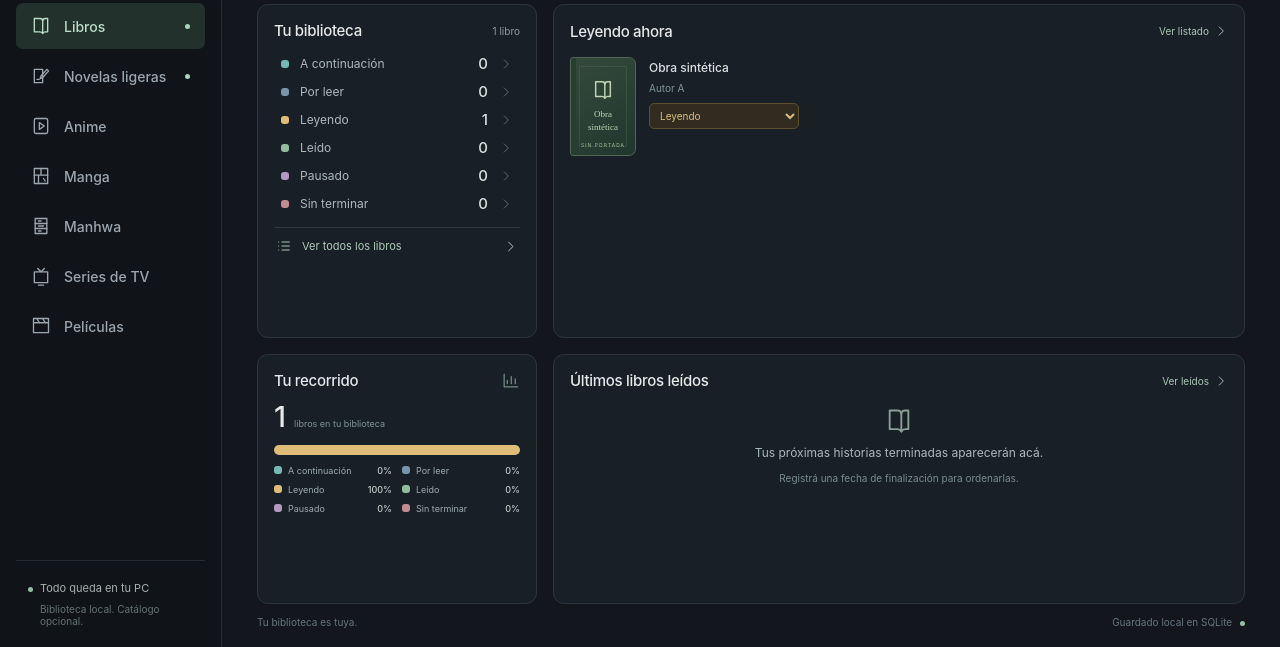
Test: Catálogo de Libros › conserva snapshot y borrador de notas ante un fallo de refresco y tras refrescar
The width and height of the screenshot is (1280, 647).
Click the button with aria-label "Abrir Obra sintética". click: (603, 106)
box: [570,57,636,156]
(page scrolled)
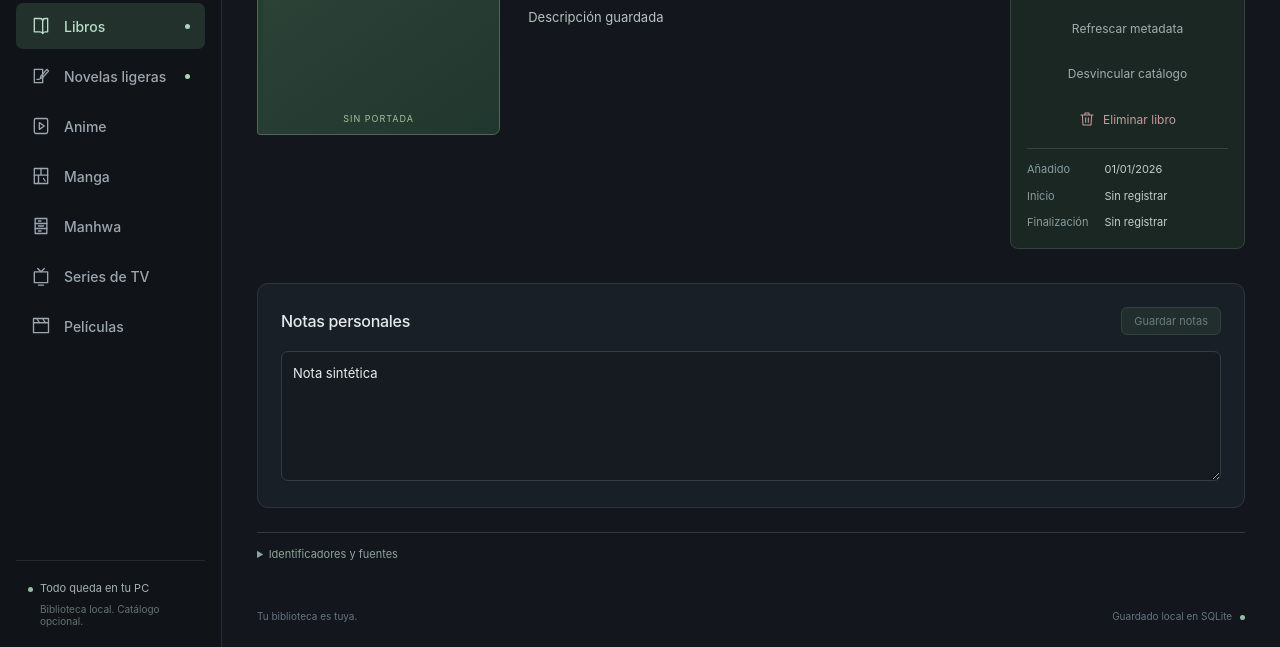
Replace the text in the text box named "Notas personales del libro" with "Borrador sin guardar". click: (751, 416)
box: [281,351,1221,481]
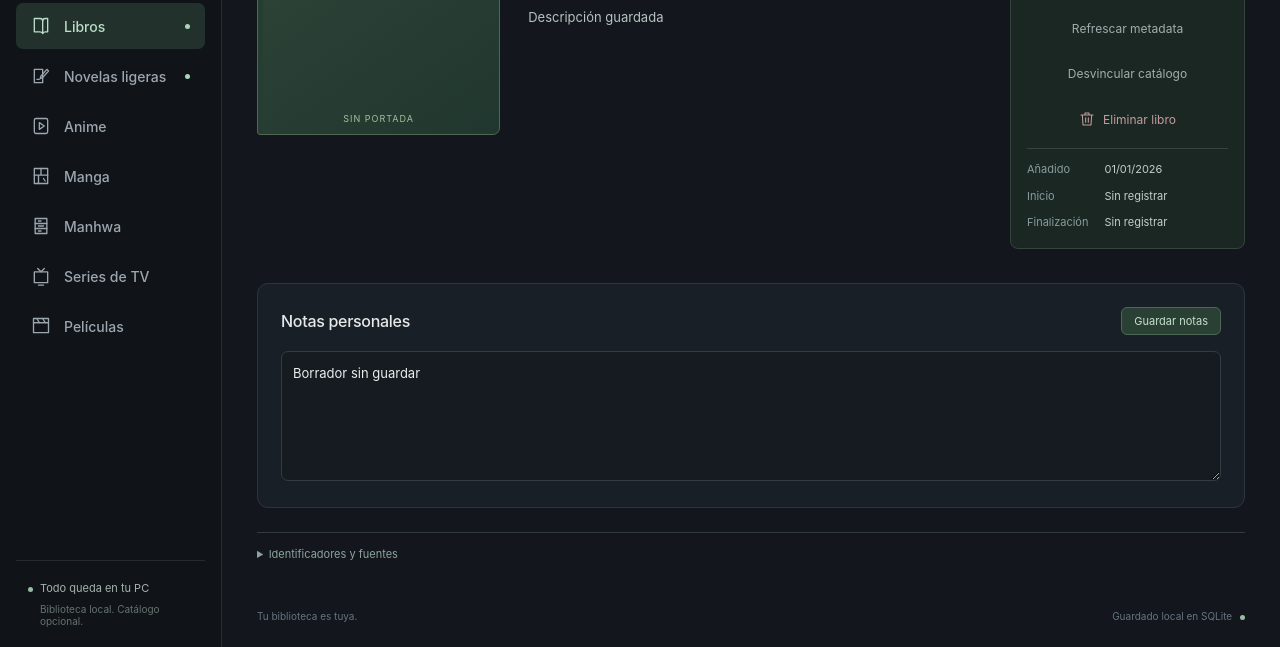
Click the button "Refrescar metadata". click: (1128, 28)
box: [1027,12,1228,45]
(page scrolled)
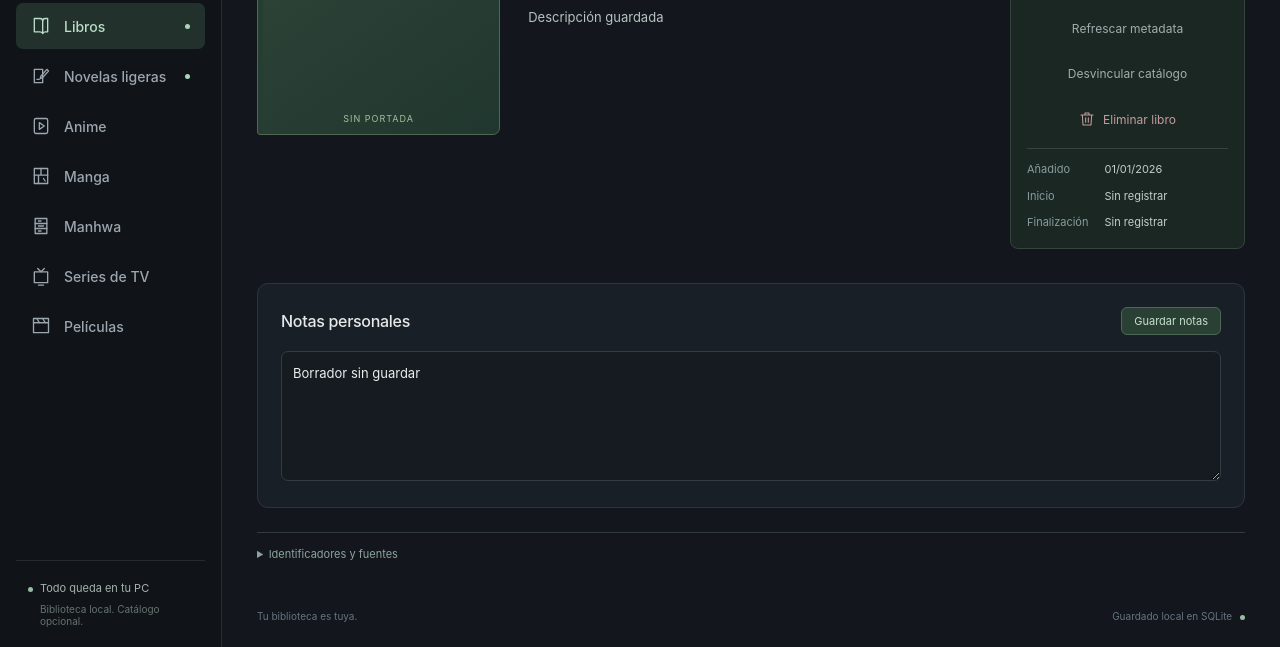
Check: the text "Descripción guardada" is shown, box [528,9,664,25]
Click the button "Refrescar metadata". click: (1128, 29)
box: [1027,12,1228,45]
(page scrolled)
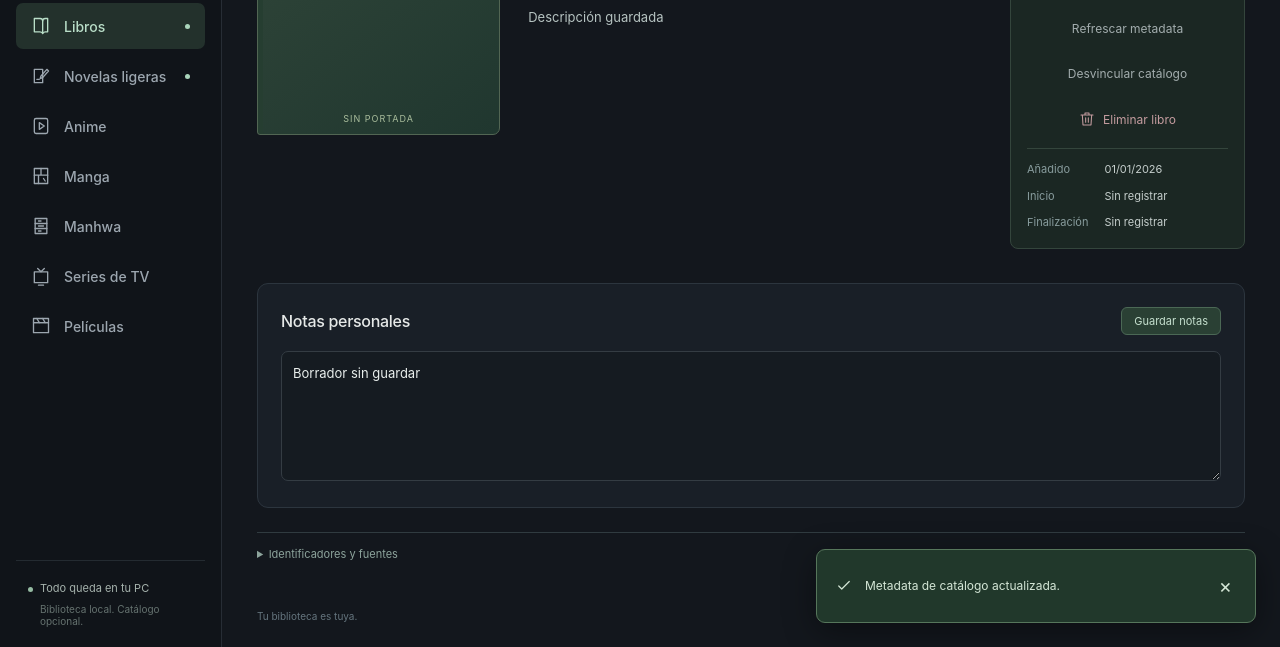
Check: the text "Metadata de catálogo actualizada." is shown, box [865,578,1060,593]
